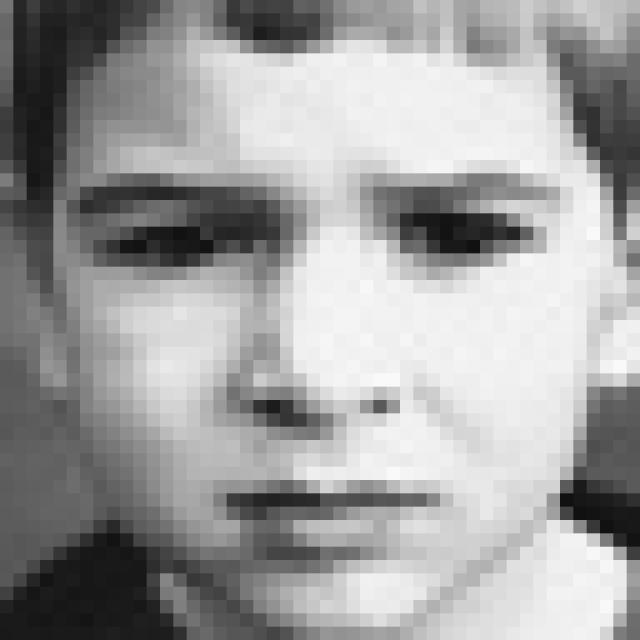neutral: (70, 152, 571, 574)
